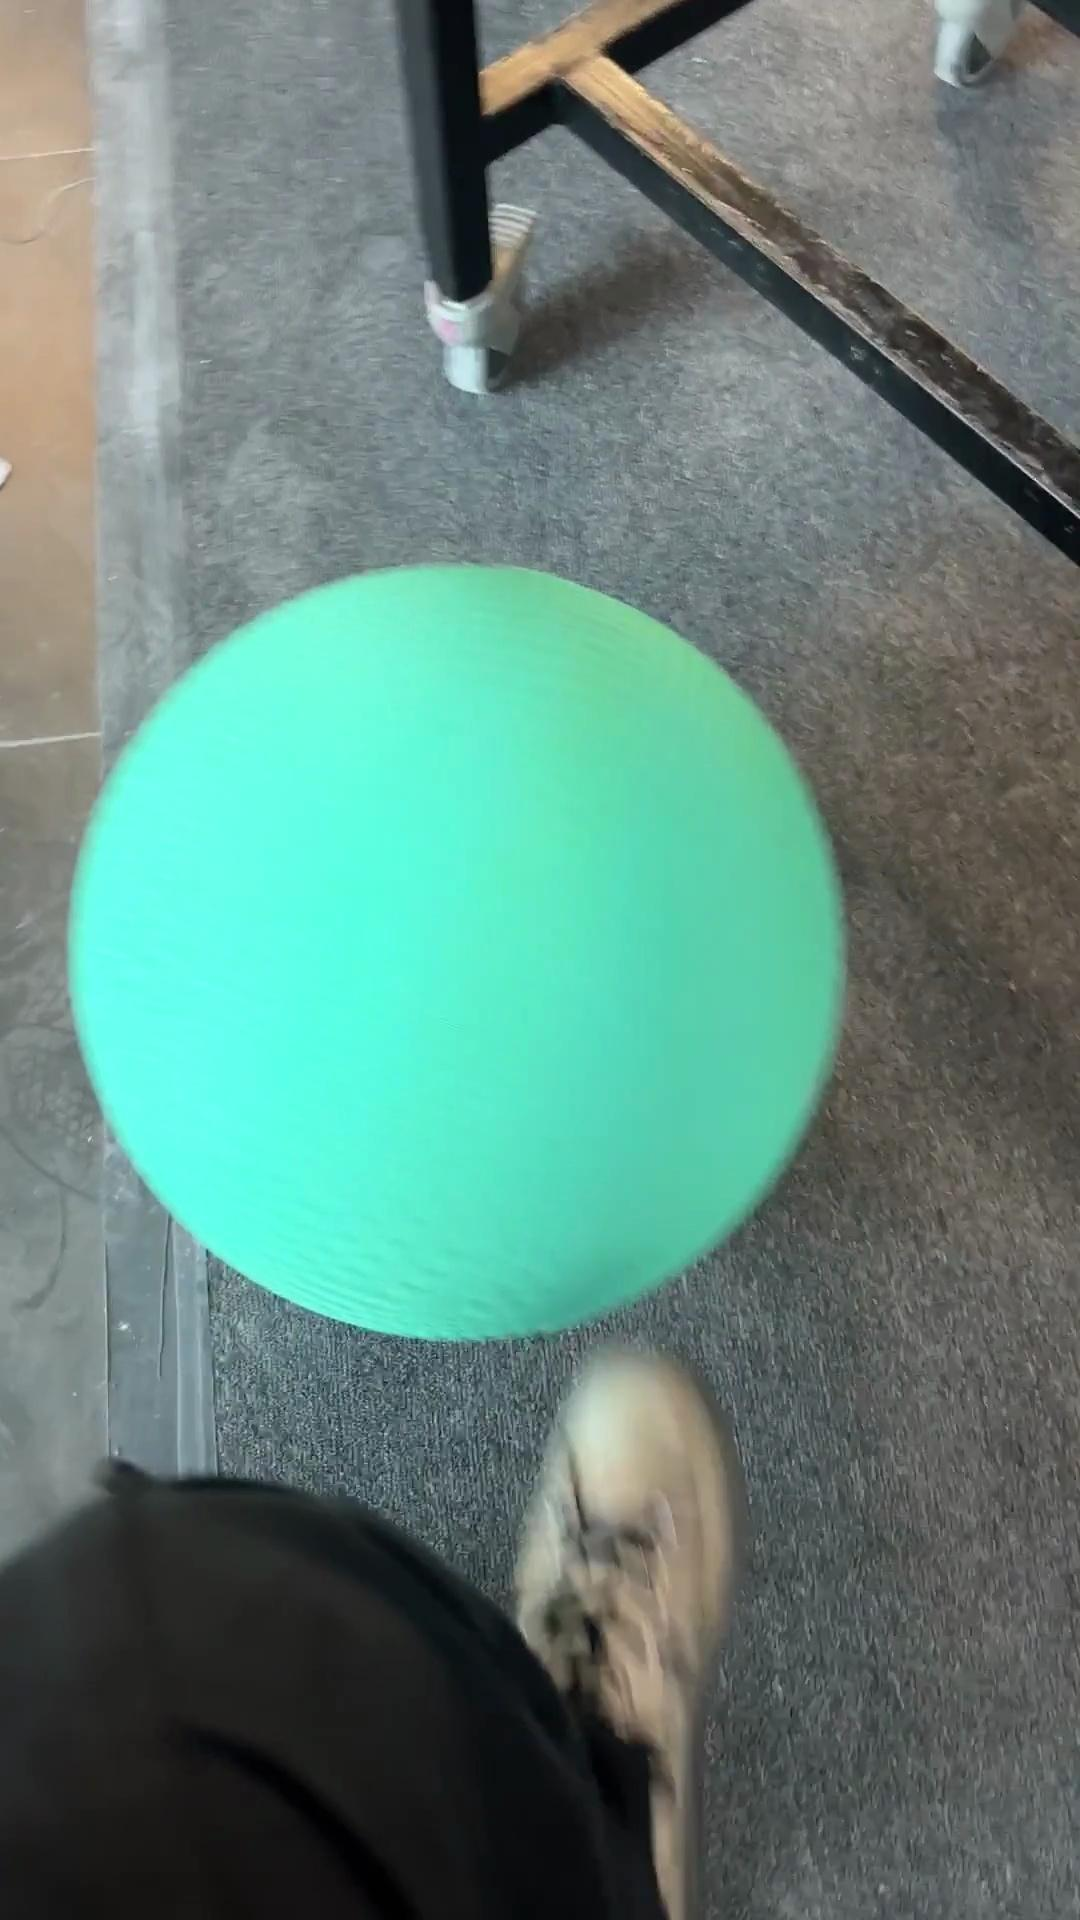ALGAE: (63, 558, 848, 1345)
